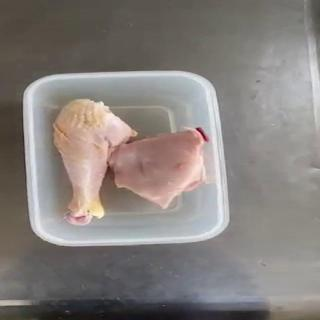Ayam: (53, 98, 139, 226), (107, 126, 212, 210)
